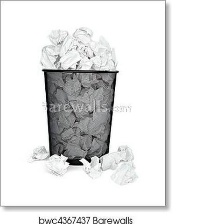book: (35, 21, 121, 160), (104, 158, 147, 187), (98, 143, 138, 170), (41, 151, 70, 178), (76, 153, 102, 182), (23, 142, 53, 162)
